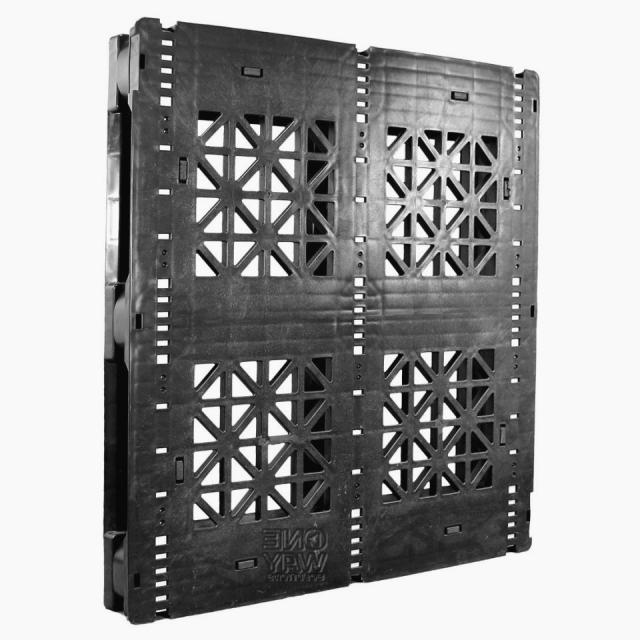non-igps: (101, 15, 541, 626)
